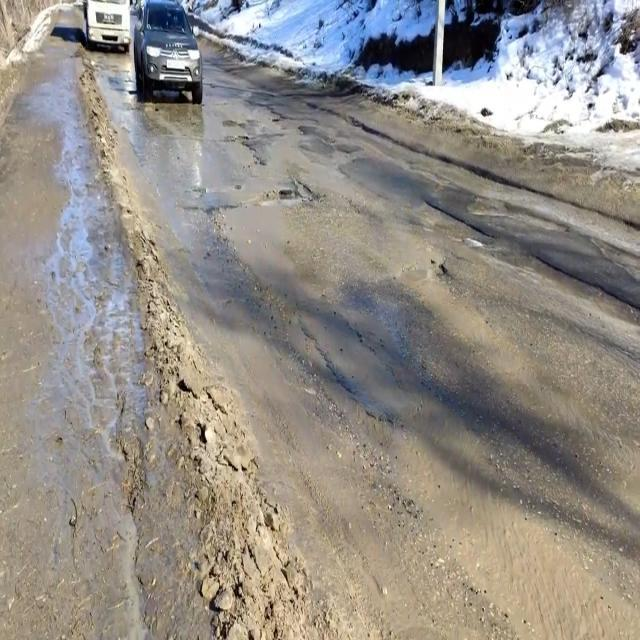Pothole: (262, 174, 320, 214), (222, 130, 260, 170), (426, 254, 450, 284)
